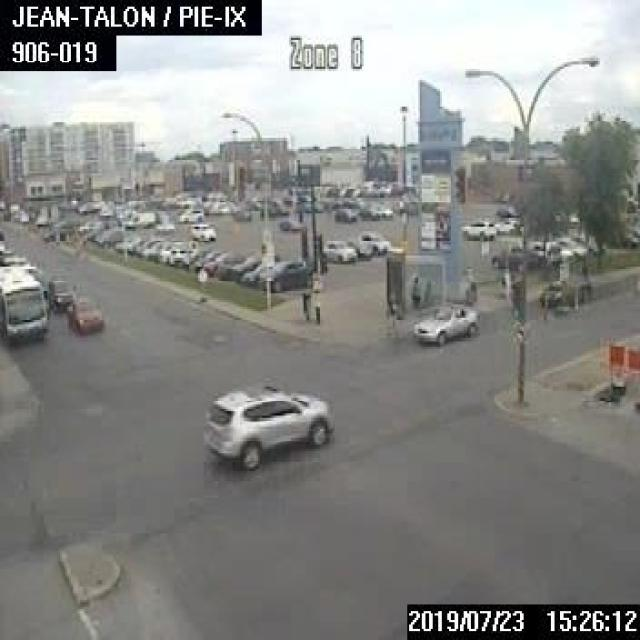bus: (0, 264, 47, 339)
construction: (608, 346, 638, 409)
pedestrian: (462, 266, 474, 301), (409, 274, 421, 306), (302, 286, 310, 319)
vehicle: (202, 384, 331, 469), (414, 302, 478, 342), (259, 259, 311, 290), (540, 277, 590, 305), (65, 297, 102, 333), (489, 244, 537, 270), (347, 228, 388, 254), (46, 277, 76, 309), (229, 253, 260, 280), (322, 237, 355, 261), (526, 240, 558, 264), (94, 227, 130, 248), (553, 235, 586, 257), (202, 250, 229, 274), (461, 219, 494, 238), (192, 248, 220, 270), (155, 240, 184, 261), (215, 255, 242, 277), (240, 261, 261, 284), (188, 222, 214, 240), (139, 240, 165, 258), (124, 210, 153, 226), (134, 237, 160, 254), (550, 241, 572, 261), (123, 234, 145, 252), (42, 227, 70, 241), (494, 216, 516, 233), (178, 207, 202, 222), (620, 230, 638, 247), (369, 202, 390, 216), (495, 204, 517, 217), (277, 216, 300, 228), (357, 206, 378, 218), (334, 208, 354, 220), (231, 208, 249, 220), (154, 221, 172, 232), (260, 202, 275, 215), (274, 202, 288, 213)
